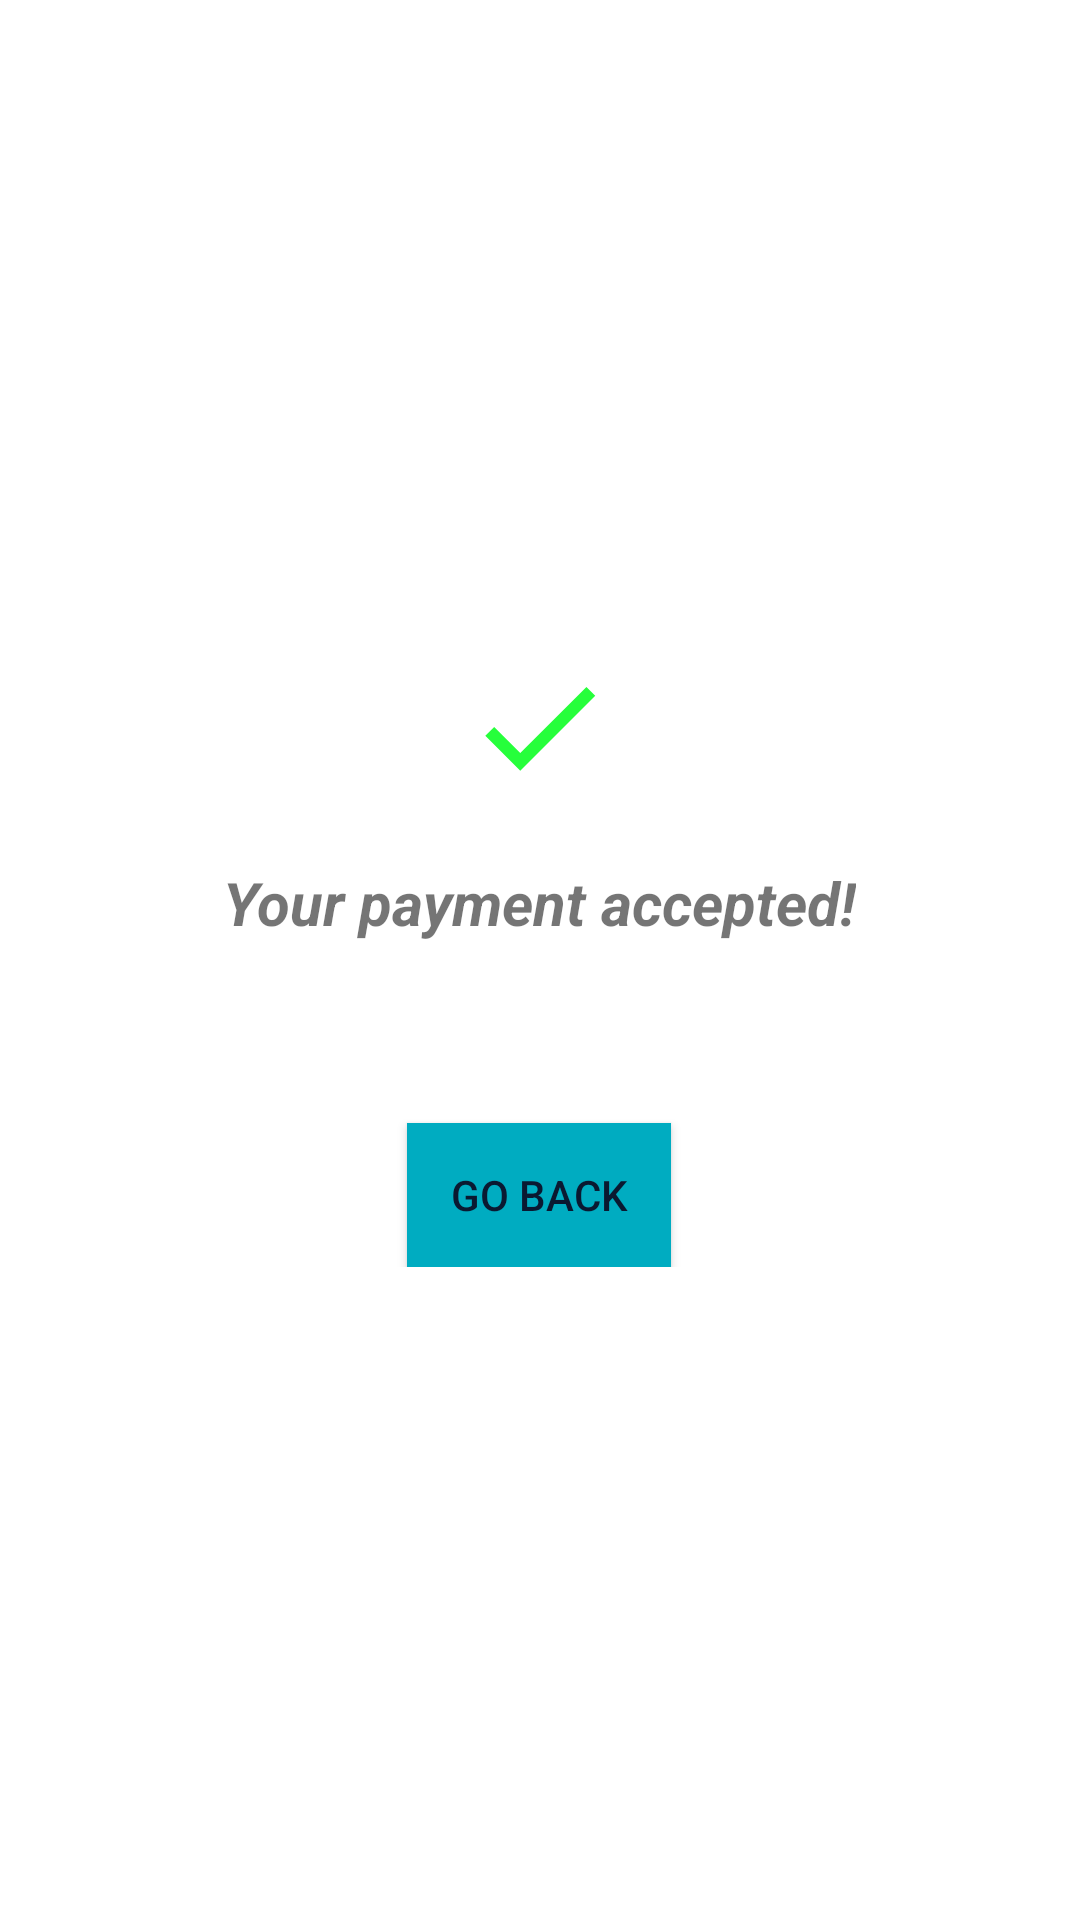

Icons on this 1080×1920 Android screen, each with its box as detection(x1, y1, x2, y2):
check: detection(485, 687, 595, 771)
